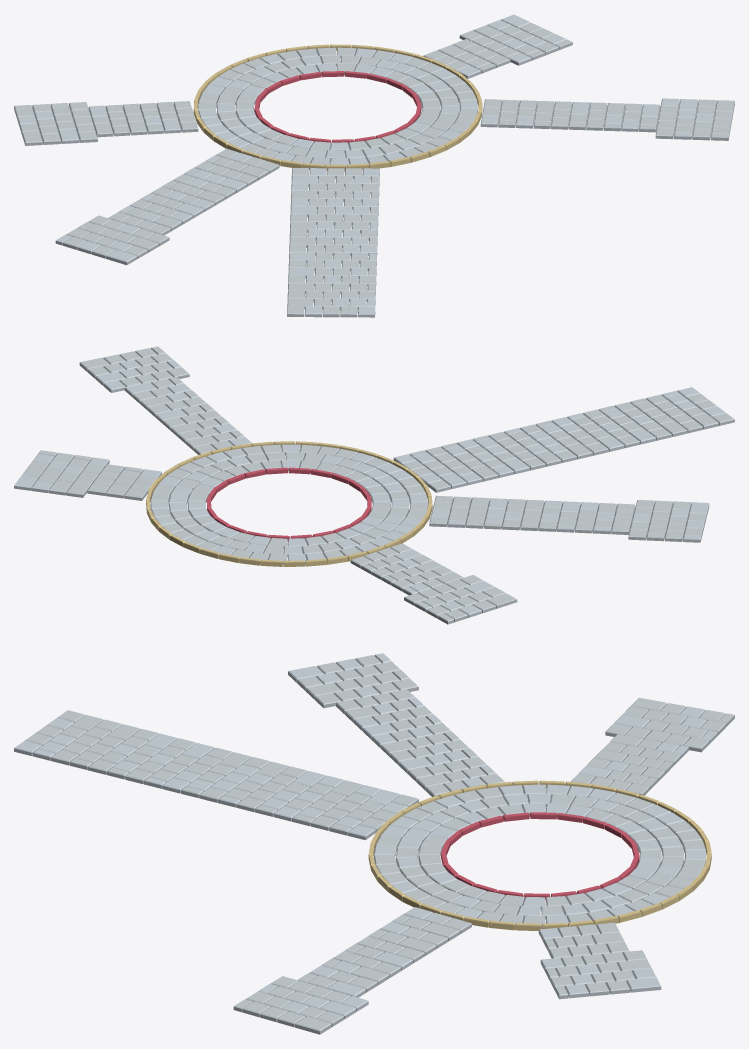
The model's file is YardPaths.glb.
3 renders of one model, top to bottom at view 1: azimuth 30°, elevation 25°; view 2: azimuth 150°, elevation 25°; view 3: azimuth 270°, elevation 25°, orthographic. The views are drawn at different scales.
Visible parts, largest first — view 1: Path_Stone, Path_StoneDark, Path_Gold, Path_RedTrim; view 2: Path_Stone, Path_StoneDark, Path_Gold, Path_RedTrim; view 3: Path_Stone, Path_StoneDark, Path_Gold, Path_RedTrim.
Boxes of the visible parts, left/top/right/bottom form: Path_Stone: left=14, top=23, right=734, bottom=317; Path_StoneDark: left=17, top=14, right=713, bottom=317; Path_Gold: left=193, top=44, right=482, bottom=170; Path_RedTrim: left=254, top=71, right=421, bottom=144; Path_Stone: left=22, top=346, right=734, bottom=624; Path_StoneDark: left=14, top=360, right=725, bottom=617; Path_Gold: left=146, top=441, right=432, bottom=566; Path_RedTrim: left=206, top=467, right=371, bottom=541; Path_Stone: left=25, top=655, right=734, bottom=1034; Path_StoneDark: left=14, top=653, right=717, bottom=1019; Path_Gold: left=368, top=780, right=711, bottom=930; Path_RedTrim: left=441, top=812, right=639, bottom=900.
Bounding box in the file's own units: 102 × 0.71 × 82.21.
